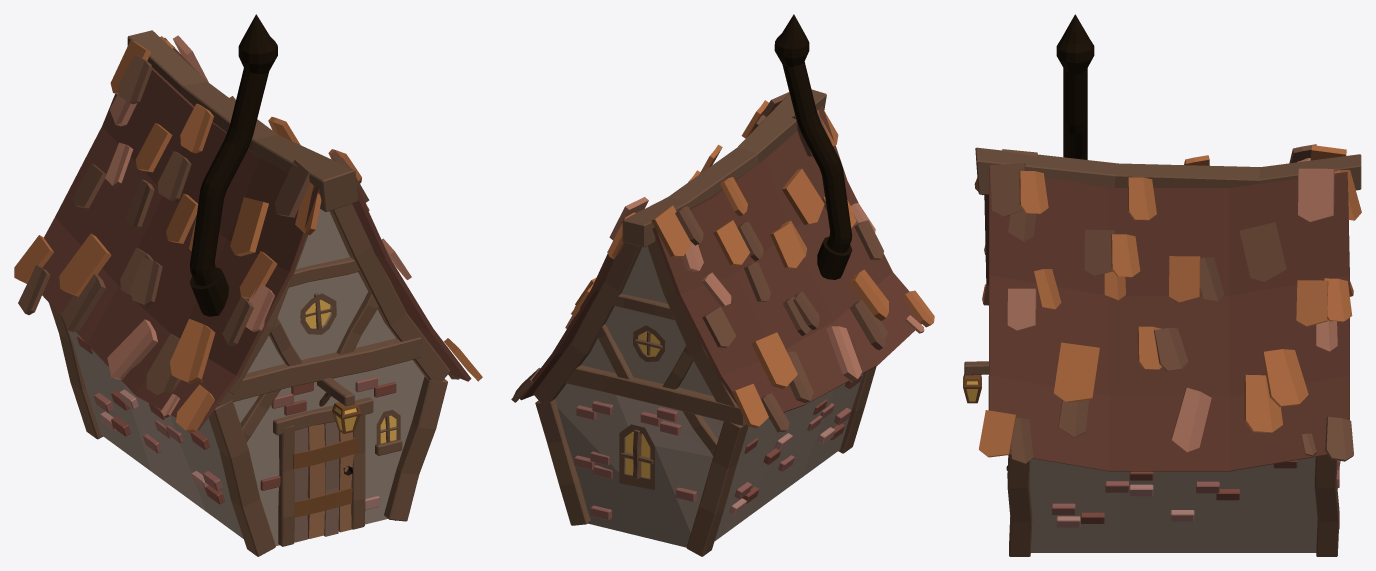
File: low poly cottage with shading 1.fbx
3 renders of one model, left to right at view 1: azimuth 30°, elevation 25°; view 2: azimuth 150°, elevation 25°; view 3: azimuth 270°, elevation 25°, orthographic. The views are drawn at different scales.
Visible parts, largest first — view 1: Cube.011, Plane.001, Cube.100, Plane.005, Cylinder, Cube.134, Cube.040, Cube.137, Plane.013; view 2: Plane.001, Cube.011, Plane.005, Cube.100, Cylinder, Cube.040, Plane.013; view 3: Plane.001, Cube.100, Plane.005, Cube.011, Cylinder, Cube.040, Cube.137.
Part boxes in pixels (x1=…): Cube.011: x1=49, y1=30, x2=449, y2=556; Plane.001: x1=42, y1=38, x2=471, y2=430; Cube.100: x1=14, y1=35, x2=482, y2=432; Plane.005: x1=69, y1=209, x2=440, y2=545; Cylinder: x1=189, y1=14, x2=277, y2=316; Cube.134: x1=293, y1=421, x2=358, y2=542; Cube.040: x1=77, y1=336, x2=396, y2=509; Cube.137: x1=332, y1=402, x2=361, y2=433; Plane.013: x1=305, y1=299, x2=396, y2=443; Plane.001: x1=519, y1=106, x2=921, y2=417; Cube.011: x1=533, y1=89, x2=876, y2=556; Plane.005: x1=555, y1=246, x2=863, y2=547; Cube.100: x1=511, y1=92, x2=934, y2=432; Cylinder: x1=774, y1=14, x2=852, y2=279; Cube.040: x1=574, y1=374, x2=862, y2=520; Plane.013: x1=625, y1=331, x2=660, y2=478; Plane.001: x1=983, y1=167, x2=1349, y2=471; Cube.100: x1=974, y1=144, x2=1361, y2=463; Plane.005: x1=1029, y1=457, x2=1340, y2=552; Cube.011: x1=964, y1=147, x2=1361, y2=556; Cylinder: x1=1056, y1=14, x2=1094, y2=159; Cube.040: x1=1052, y1=460, x2=1339, y2=528; Cube.137: x1=963, y1=374, x2=981, y2=403.
Size of the model in its own units: 384 by 621 by 459.
